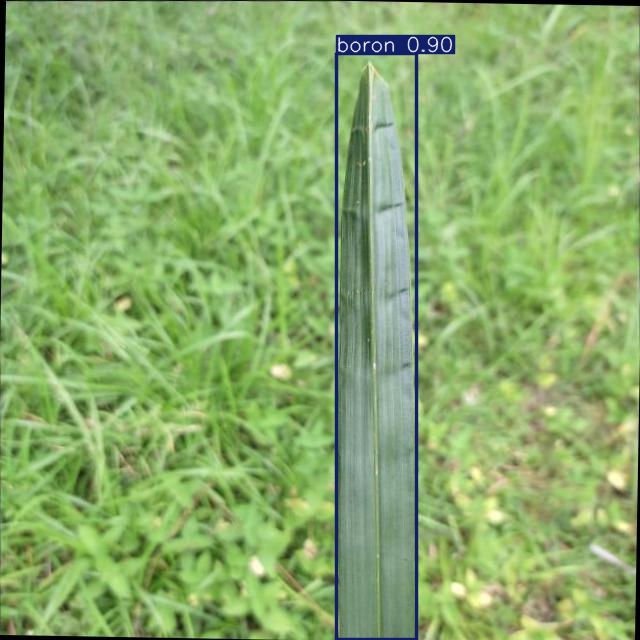nitrogen: (336, 53, 416, 639)
